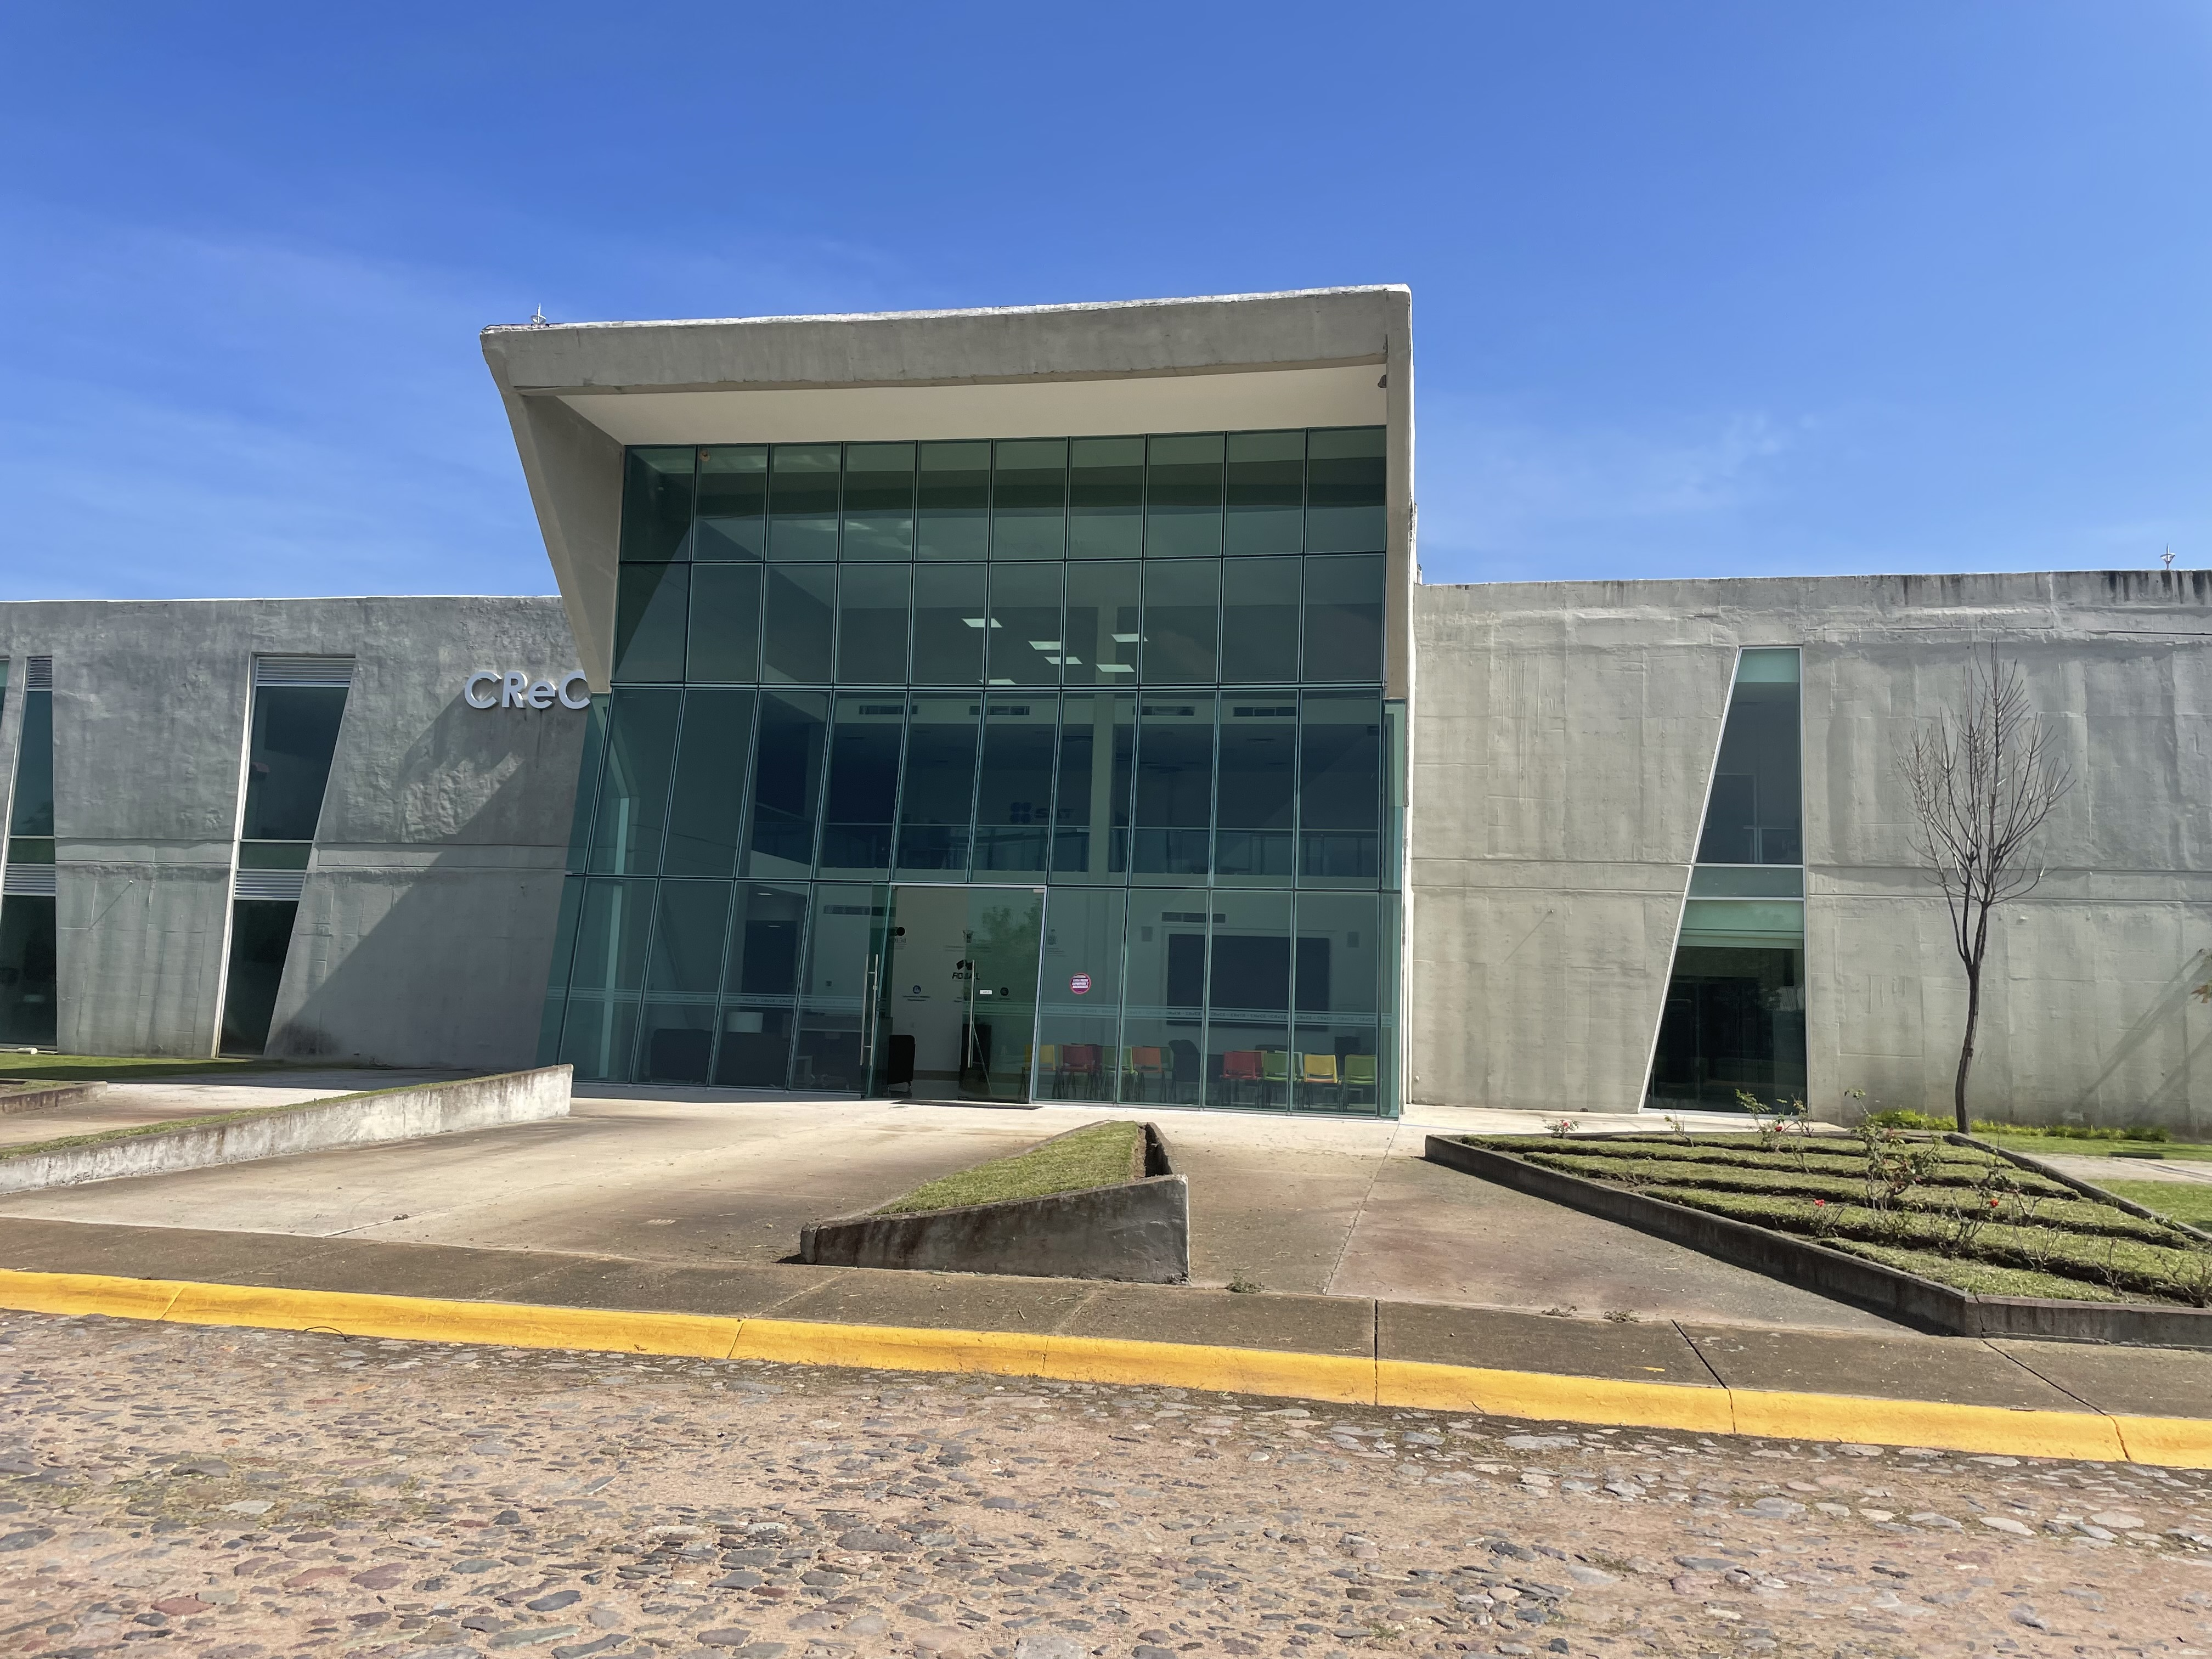crece: (47, 272, 2212, 1220)
